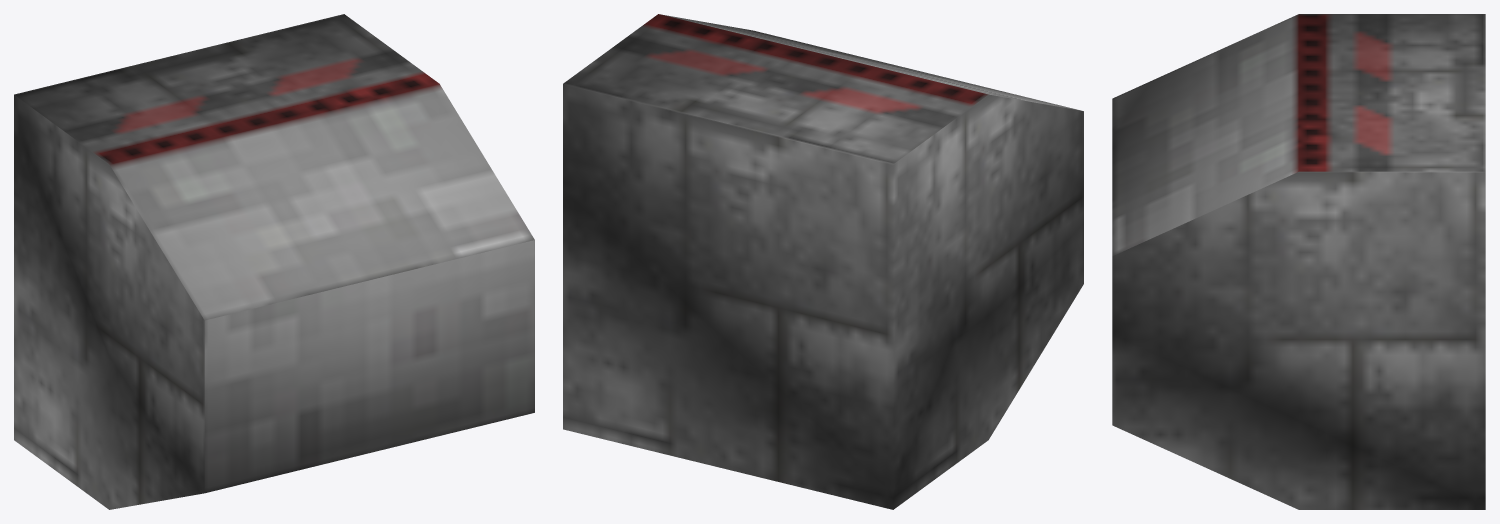
The model's file is bs_side.obj.
3 views of the same model, side by side, from view 1: azimuth 30°, elevation 25°; view 2: azimuth 150°, elevation 25°; view 3: azimuth 270°, elevation 25° (orthographic). The views are drawn at different scales.
Visible parts, largest first — view 1: bs_side; view 2: bs_side; view 3: bs_side.
Boxes of the visible parts, left/top/right/bottom form: bs_side: left=14, top=14, right=534, bottom=509; bs_side: left=563, top=14, right=1083, bottom=509; bs_side: left=1112, top=14, right=1485, bottom=509.
Size of the model in its own units: 2 by 2 by 2.
1 material, 1 textured.
